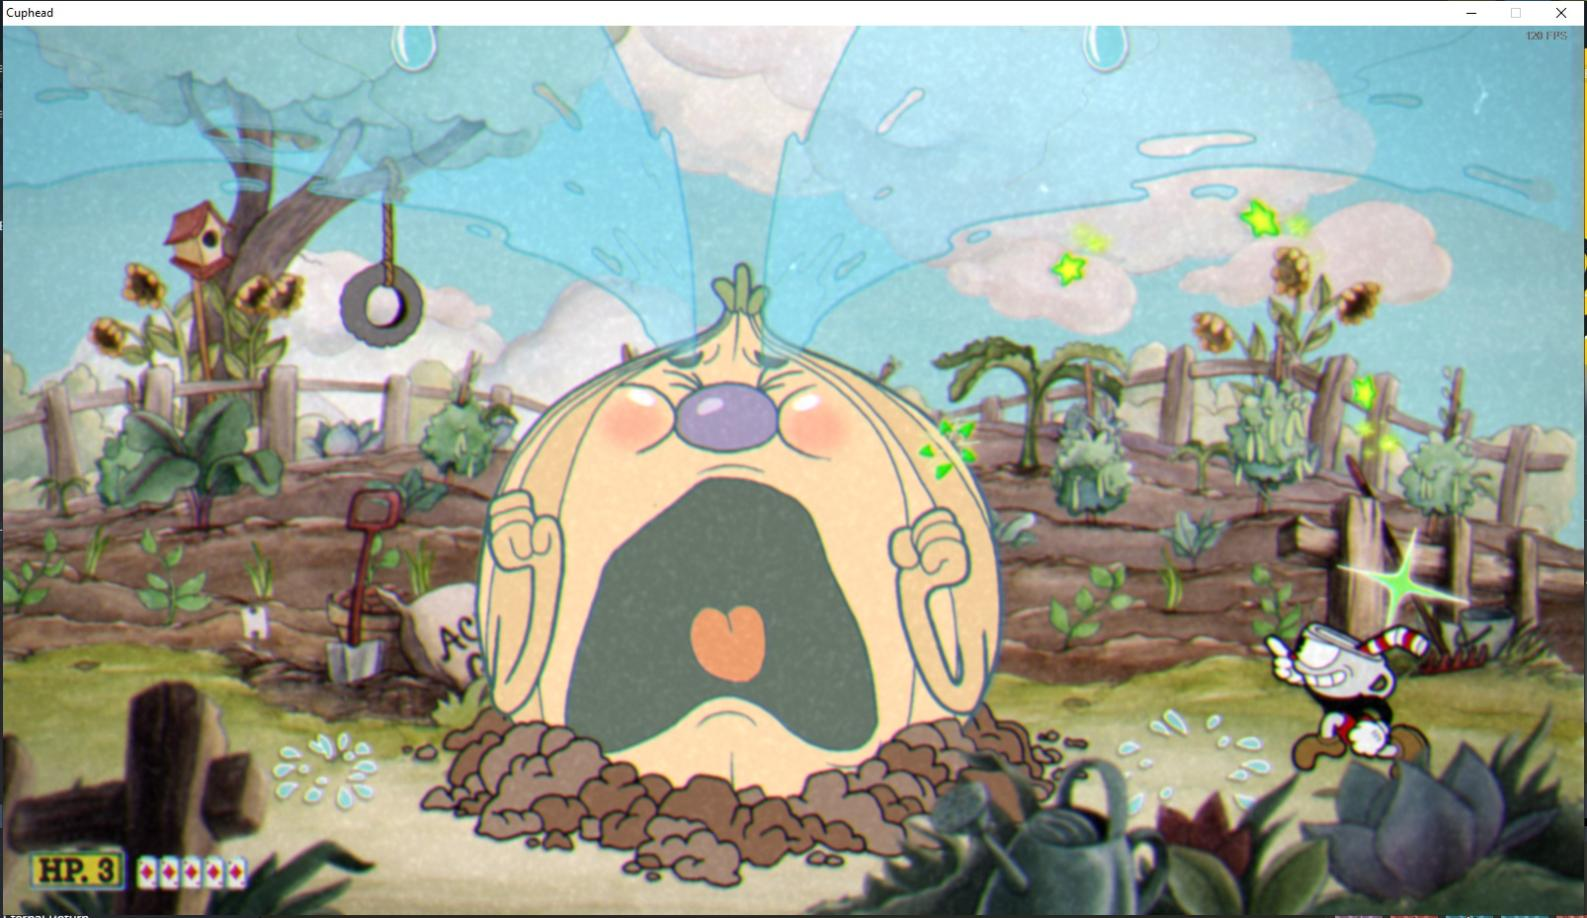hp3: (91, 853, 123, 889)
onion_boss: (471, 280, 1008, 858)
player: (1258, 612, 1446, 798)
rain: (1074, 25, 1139, 79), (385, 26, 449, 80)
